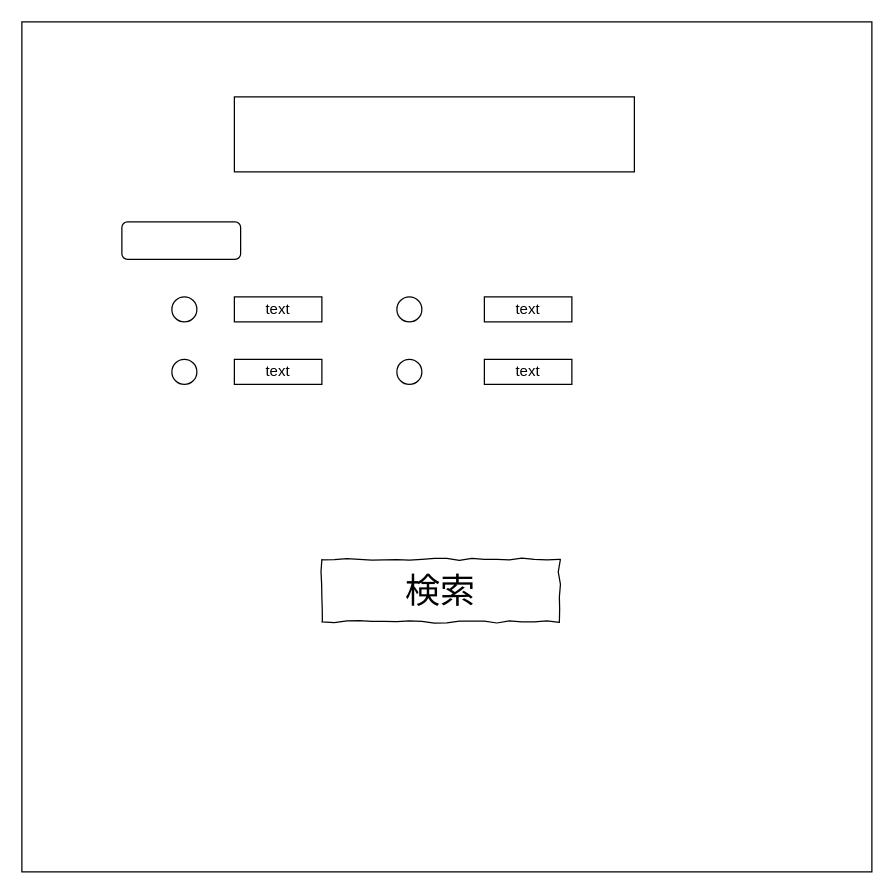
Some shapes in this 894 by 894 pixel diagram are drawn without their labels. Here are the shapes that lost their labels. From the top down, the box of each, then its label:
(233, 96, 634, 172): アプリ名
(121, 221, 241, 259): 検索条件
